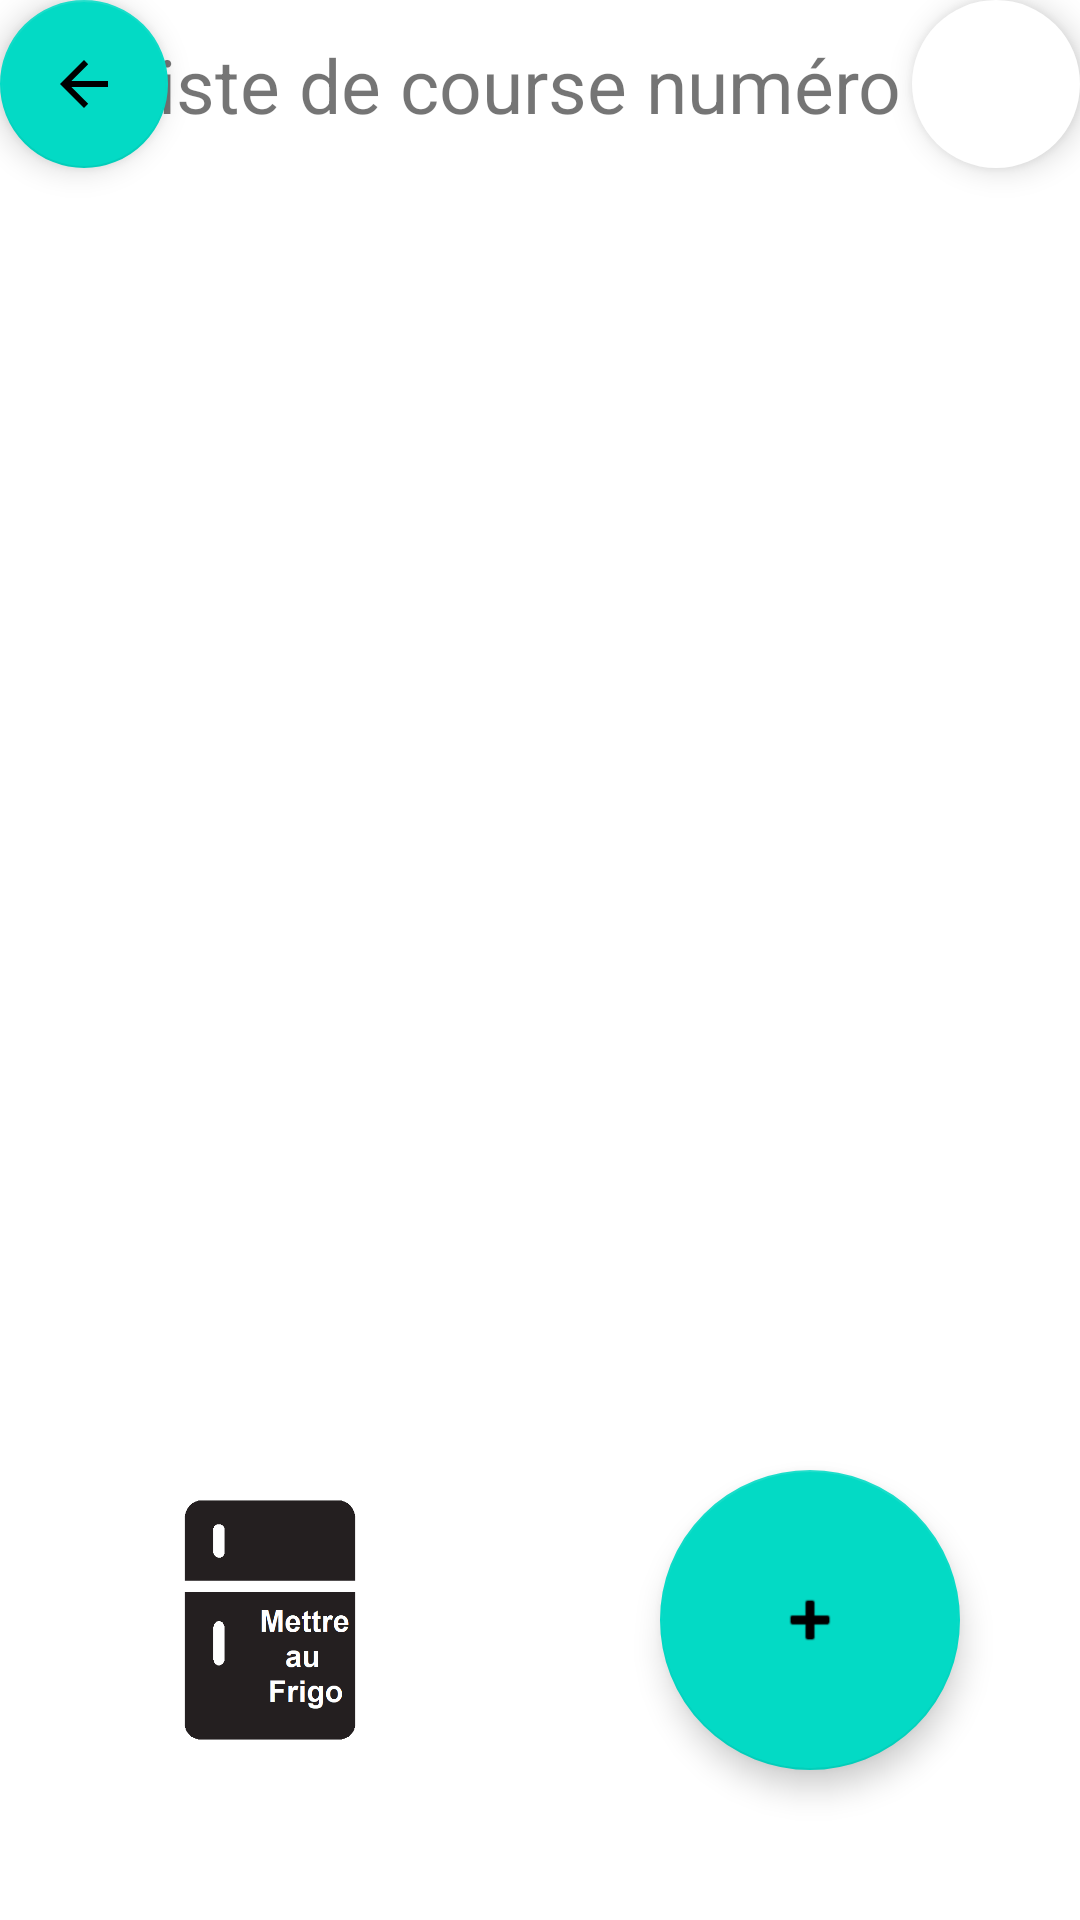

Icon bounding boxes for this 1080w x 1920h phone screenshot, format (x1, y1, x2, y2):
add: (660, 1470, 960, 1770)
